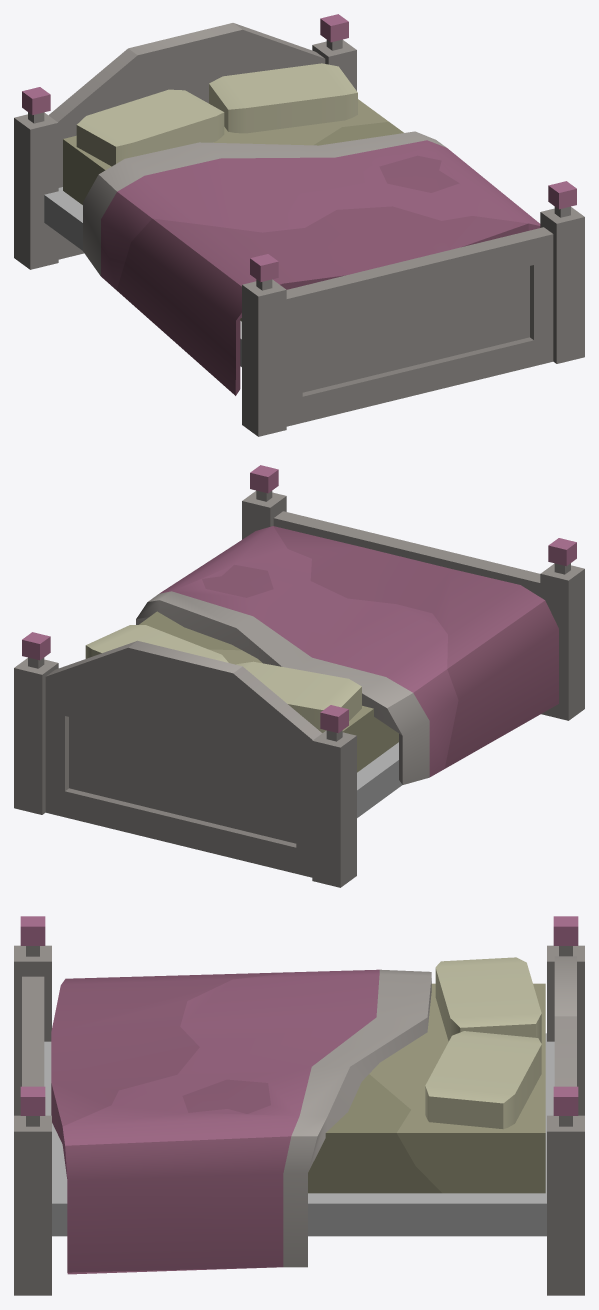
The model's file is AI_Prop_Bed_Girls.fbx.
3 views of the same model, one above another, from view 1: azimuth 30°, elevation 25°; view 2: azimuth 150°, elevation 25°; view 3: azimuth 270°, elevation 25° (orthographic). The views are drawn at different scales.
Visible parts, largest first — view 1: AI_Prop_Bed_Girls; view 2: AI_Prop_Bed_Girls; view 3: AI_Prop_Bed_Girls.
Boxes of the visible parts, x1,y1,x2,y2 form: AI_Prop_Bed_Girls: [14, 14, 584, 436]; AI_Prop_Bed_Girls: [14, 465, 584, 887]; AI_Prop_Bed_Girls: [14, 916, 584, 1295].
Size of the model in its own units: 3.21 by 1.73 by 4.15.
